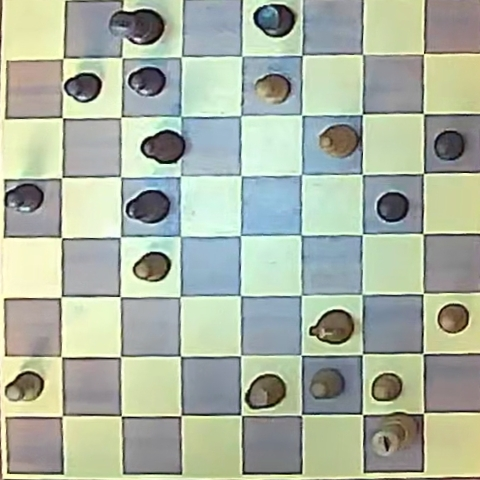black-bishop: (126, 190, 170, 224), (140, 130, 184, 164)
black-king: (111, 8, 164, 45)
black-pawn: (5, 183, 44, 213), (64, 72, 101, 102), (128, 66, 165, 96), (433, 130, 465, 161), (376, 192, 409, 222)
black-rook: (253, 4, 293, 37)
white-bishop: (318, 125, 358, 158)
white-king: (370, 413, 418, 458)
white-knight: (309, 310, 353, 345)
white-pawn: (5, 372, 44, 402), (133, 252, 171, 282), (309, 368, 344, 400), (255, 74, 290, 104), (437, 304, 468, 333), (371, 373, 403, 401)
white-rook: (245, 374, 286, 409)
